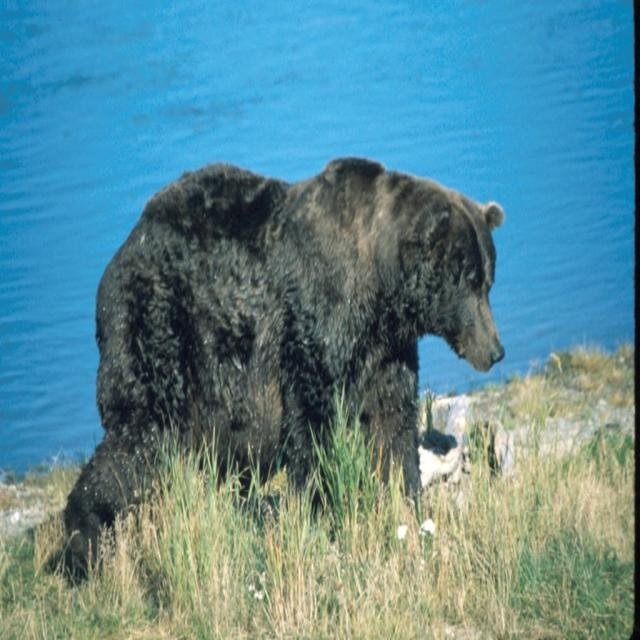Buffalo: (62, 154, 507, 607)
